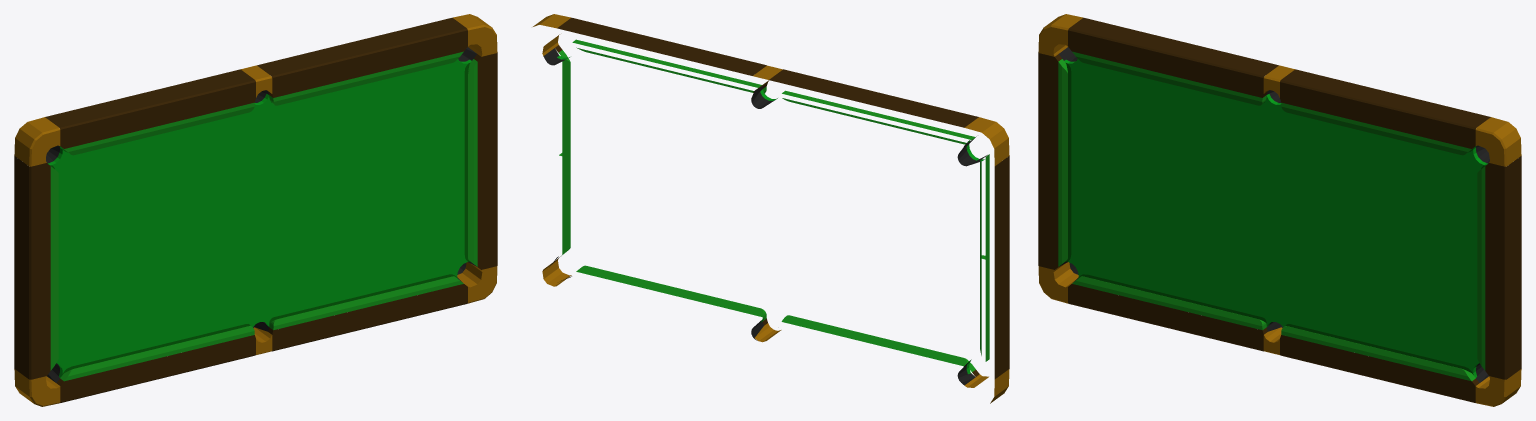
File: snooker.gltf
3 views of the same model, side by side, from view 1: azimuth 30°, elevation 25°; view 2: azimuth 150°, elevation 25°; view 3: azimuth 330°, elevation 25° (orthographic).
Visible parts, largest first — view 1: FullCloth, SideRail, EndRail, SideCushion, CornerMetal, EndCushion, Cube, centercup.001; view 2: SideCushion, SideRail, EndRail, EndCushion, CornerMetal, centercup.001, Cube; view 3: FullCloth, SideRail, EndRail, SideCushion, CornerMetal, EndCushion, Cube, centercup.001.
Boxes of the visible parts, bbox=[...] form: FullCloth: bbox=[48, 59, 471, 377]; SideRail: bbox=[45, 17, 467, 402]; EndRail: bbox=[14, 52, 497, 379]; SideCushion: bbox=[60, 51, 463, 381]; CornerMetal: bbox=[14, 14, 497, 406]; EndCushion: bbox=[50, 59, 477, 370]; Cube: bbox=[241, 65, 272, 354]; centercup.001: bbox=[46, 47, 476, 382]; SideCushion: bbox=[572, 39, 975, 371]; SideRail: bbox=[557, 17, 979, 376]; EndRail: bbox=[555, 45, 1009, 379]; EndCushion: bbox=[559, 50, 989, 361]; CornerMetal: bbox=[533, 14, 1009, 403]; centercup.001: bbox=[543, 48, 987, 385]; Cube: bbox=[753, 65, 782, 342]; FullCloth: bbox=[1064, 59, 1487, 377]; SideRail: bbox=[1068, 17, 1490, 402]; EndRail: bbox=[1038, 52, 1521, 379]; SideCushion: bbox=[1072, 51, 1475, 381]; CornerMetal: bbox=[1038, 14, 1521, 406]; EndCushion: bbox=[1058, 59, 1485, 370]; Cube: bbox=[1263, 65, 1294, 354]; centercup.001: bbox=[1059, 47, 1489, 382].
Size of the model in its own units: 50.25 by 28.25 by 3.36.
